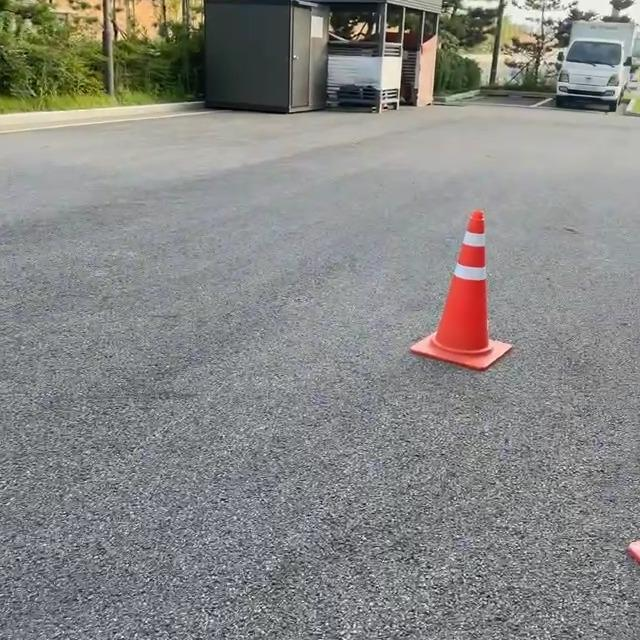fallen_object: (407, 199, 523, 412)
